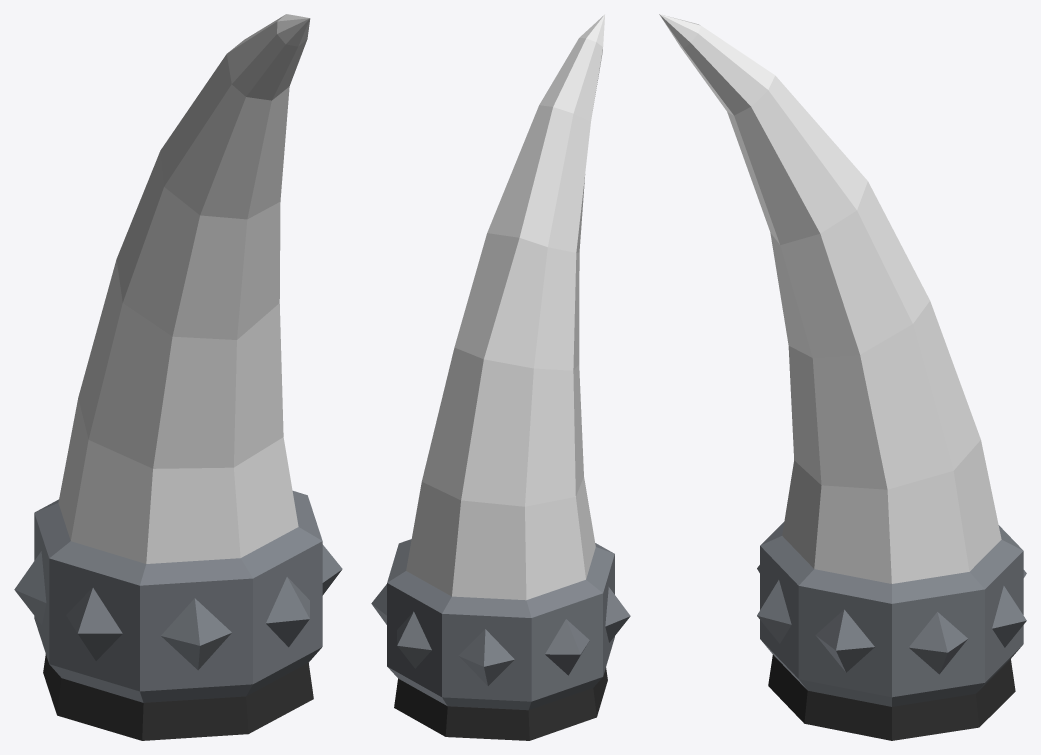
File: Drg_Bone_03.FBX
3 renders of one model, left to right at view 1: azimuth 30°, elevation 25°; view 2: azimuth 150°, elevation 25°; view 3: azimuth 270°, elevation 25°, orthographic. The views are drawn at different scales.
Visible parts, largest first — view 1: Drg_Bone_03; view 2: Drg_Bone_03; view 3: Drg_Bone_03.
Boxes of the visible parts, x1,y1,x2,y2 form: Drg_Bone_03: (14,14,342,740); Drg_Bone_03: (371,14,630,740); Drg_Bone_03: (659,14,1026,740).
Size of the model in its own units: 1.15 by 3.19 by 1.57.
